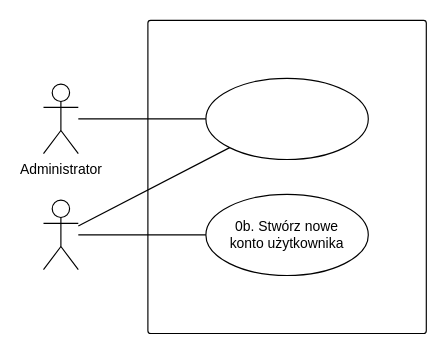
This 447x354 diagram has some shape labels left out. The centre of each missing label's shape, as x and y in pixels:
0a. Zaloguj się na istniejące konto: (x=286, y=118)
Użytkownik: (x=60, y=234)
